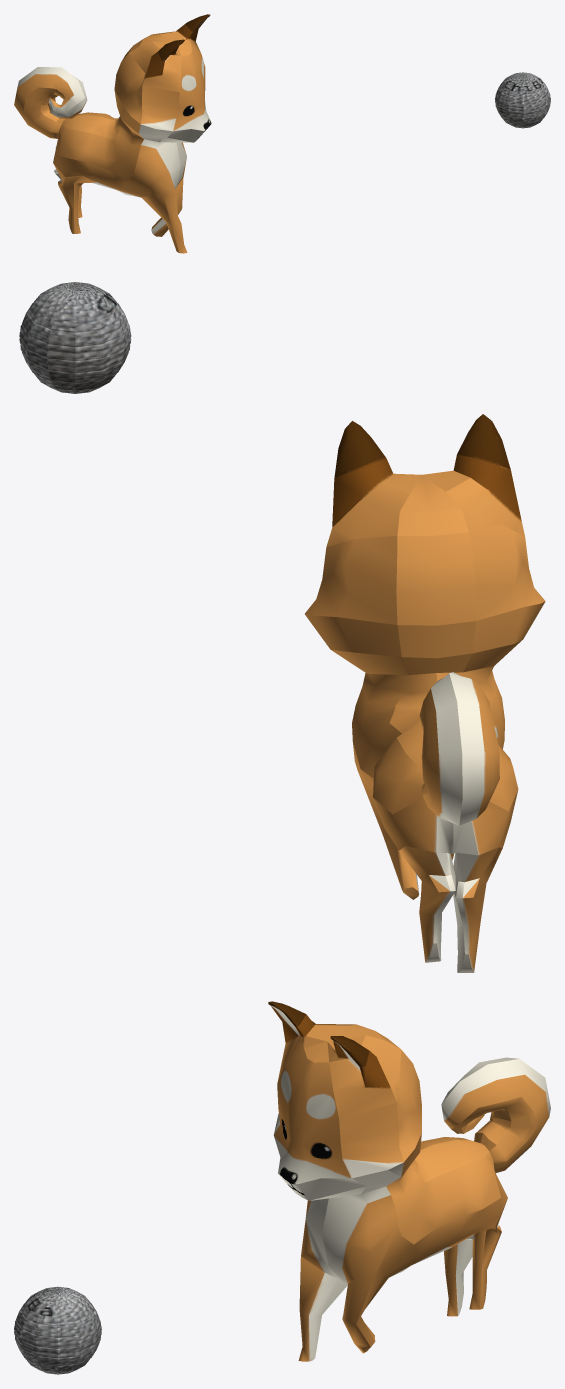
Rendered from ball_frame22.obj.
3 views of the same model, one above another, from view 1: azimuth 30°, elevation 25°; view 2: azimuth 150°, elevation 25°; view 3: azimuth 270°, elevation 25° (orthographic). The views are drawn at different scales.
Parts seen in each view (by area): view 1: walk1:newRigging:BodzL1, pSphere1; view 2: walk1:newRigging:BodzL1, pSphere1; view 3: walk1:newRigging:BodzL1, pSphere1.
Part boxes in pixels (box(x1,y1,x2,y2)): walk1:newRigging:BodzL1: box(14, 14, 211, 253); pSphere1: box(495, 72, 550, 128); walk1:newRigging:BodzL1: box(305, 414, 545, 972); pSphere1: box(19, 282, 131, 393); walk1:newRigging:BodzL1: box(268, 1001, 550, 1361); pSphere1: box(14, 1286, 101, 1374).
Bounding box in the file's own units: 14.2 × 7.94 × 11.02.
2 materials, 2 textured.
